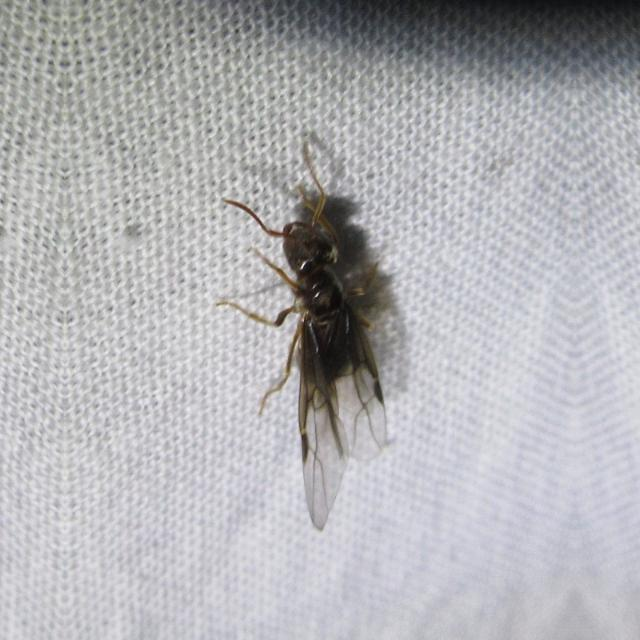Lasius: (215, 152, 405, 484)
